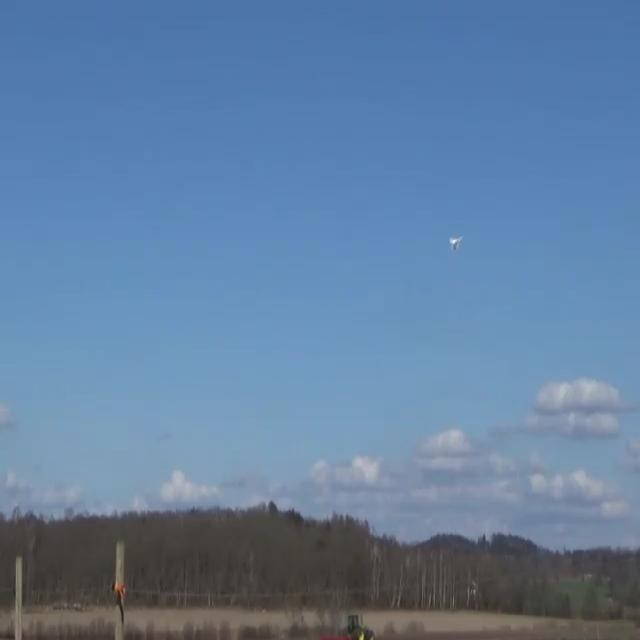Drone: (442, 227, 467, 261)
